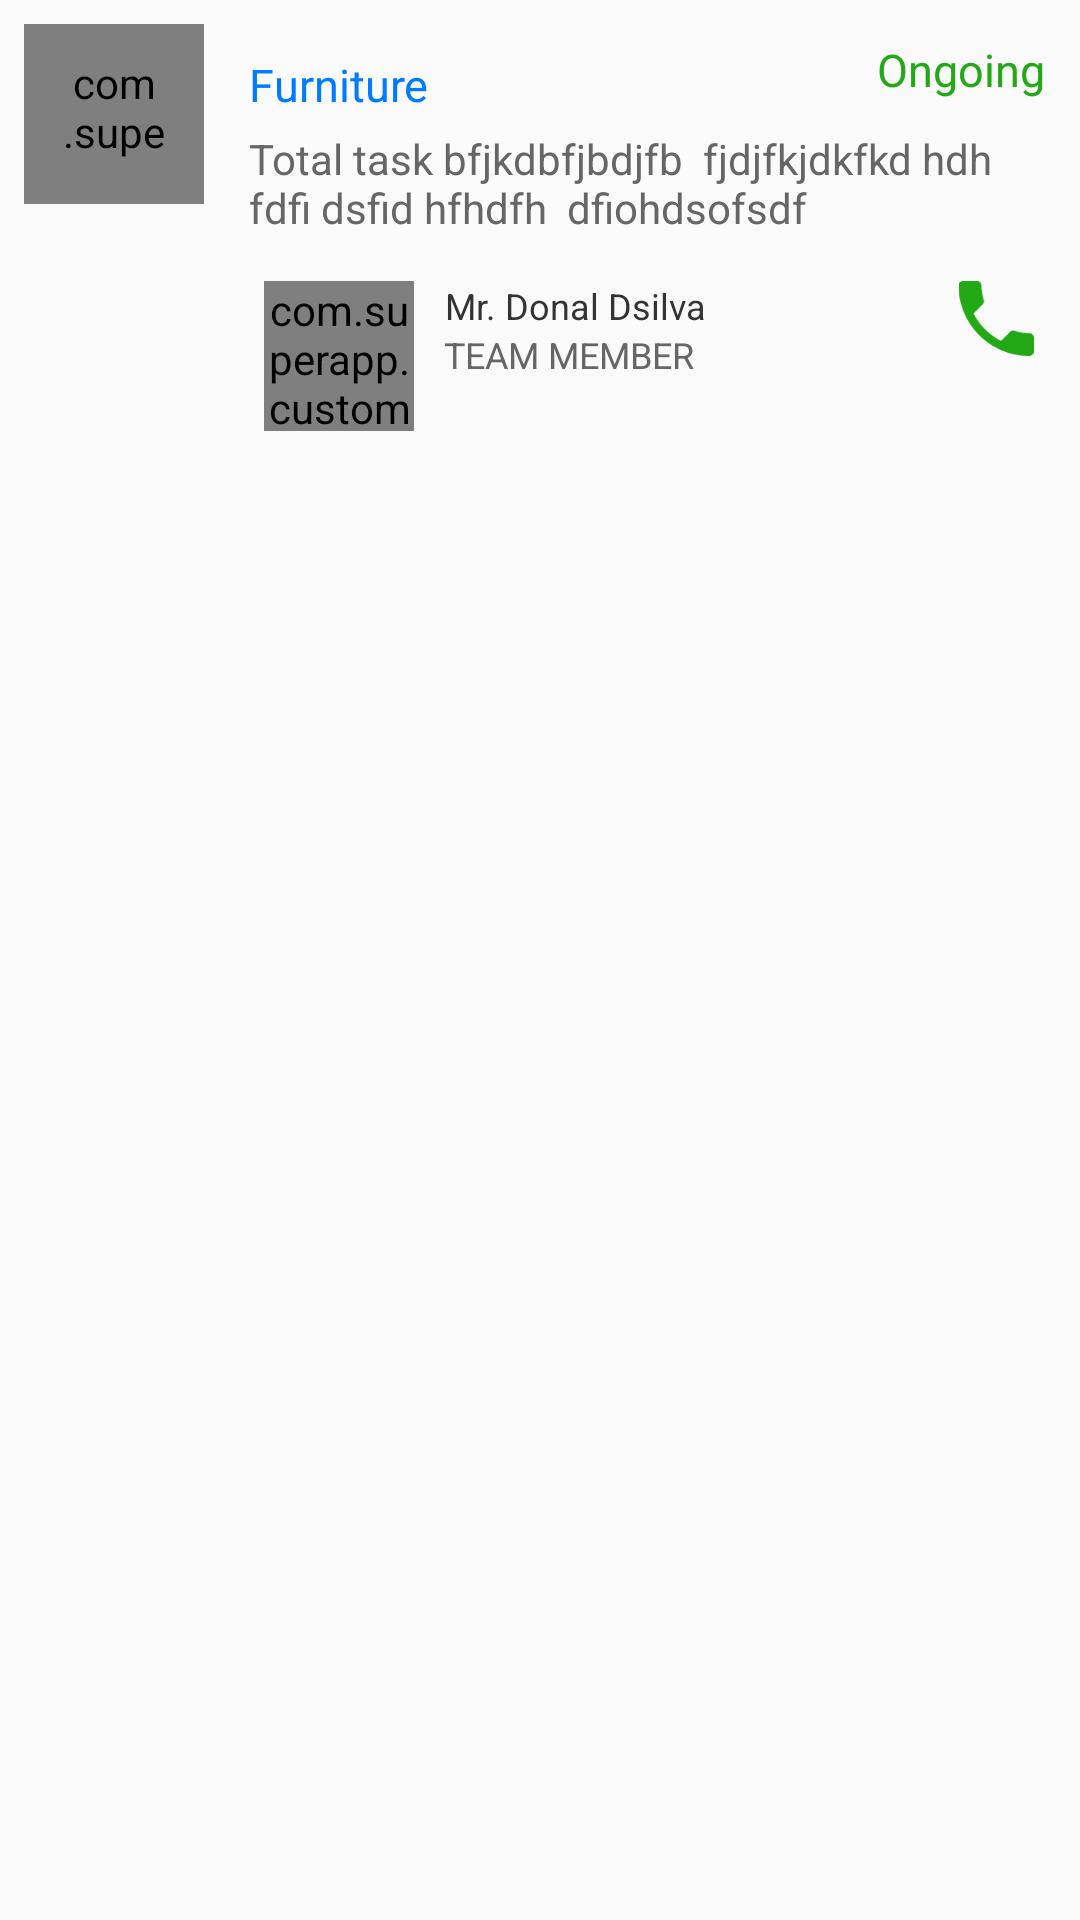

Icons on this 1080x1920 Android screen, each with its box as (x1, y1, x2, y2):
call: (959, 281, 1034, 356)
